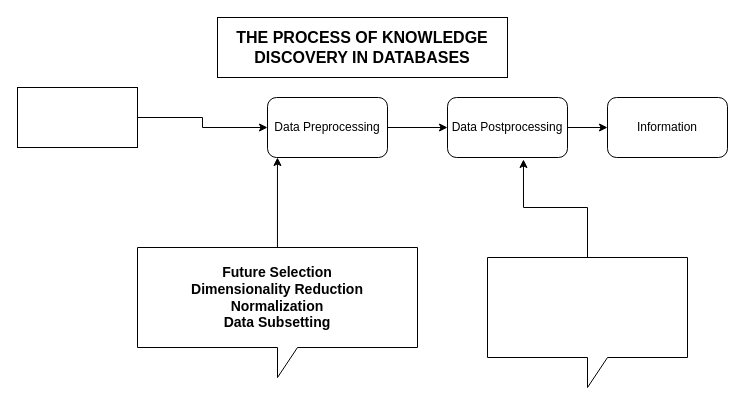
The diagram is 745 pixels wide and 405 high, and some of its shapes have lost their labels. Here are the shapes that lost their labels. From the top down, the centre of each, then its label:
[77,117]: Input Data
[587,322]: Filtering Patterns Visualization Pattern interpretation
